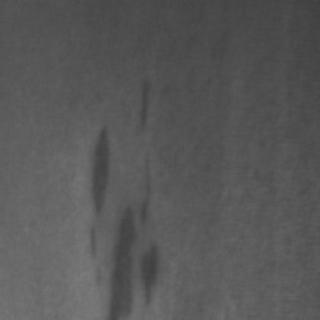inclusion: (96, 149, 162, 315), (84, 116, 116, 220), (128, 68, 154, 140)
